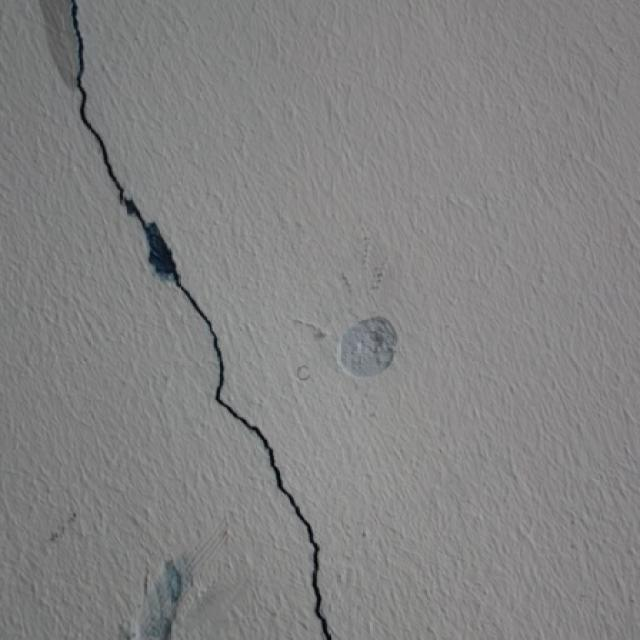diagonal crack: (67, 5, 350, 640)
